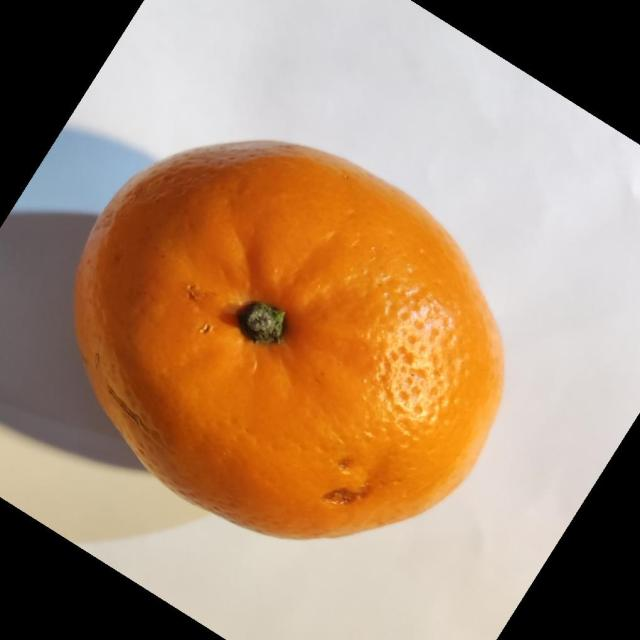fresh orange: (72, 137, 506, 541)
